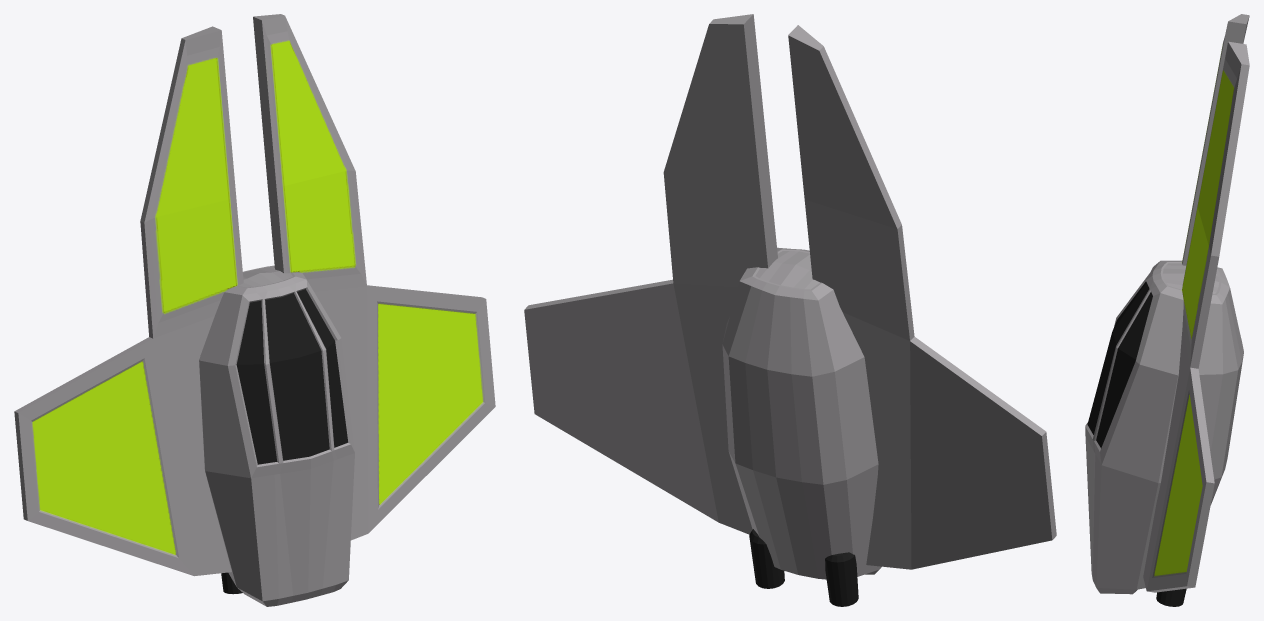
Rendered from Ship.fbx.
The picture shows the model from 3 angles, left to right: view 1: azimuth 30°, elevation 25°; view 2: azimuth 150°, elevation 25°; view 3: azimuth 270°, elevation 25°; orthographic projection. The views are drawn at different scales.
Visible parts, largest first — view 1: node_id31, node_id35, node_id33; view 2: node_id31, node_id33; view 3: node_id31, node_id35, node_id33.
Boxes of the visible parts, x1,y1,x2,y2 form: node_id31: [14, 14, 495, 606]; node_id35: [32, 41, 482, 554]; node_id33: [221, 289, 348, 594]; node_id31: [524, 14, 1056, 579]; node_id33: [749, 529, 858, 606]; node_id31: [1085, 14, 1249, 594]; node_id35: [1154, 70, 1233, 575]; node_id33: [1087, 281, 1186, 606].
Size of the model in its own units: 0.512 by 0.5627 by 0.1513.
Materials: 3 (2 with a texture image).
